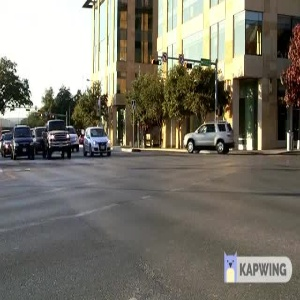car: (82, 125, 114, 160)
suv: (171, 117, 238, 162)
truck: (41, 115, 70, 160)
van: (3, 122, 36, 167)
